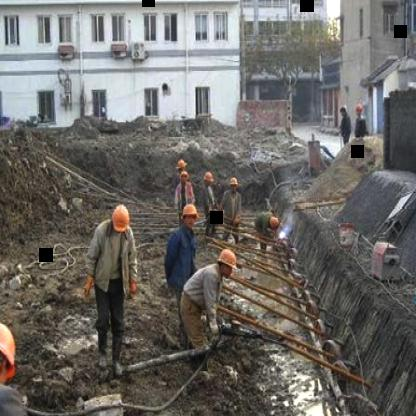helmet: (0, 316, 21, 390), (107, 202, 132, 234), (216, 247, 240, 280), (179, 200, 199, 226), (266, 212, 284, 230), (228, 176, 240, 196), (200, 170, 214, 186), (177, 168, 191, 182), (174, 158, 188, 172)
